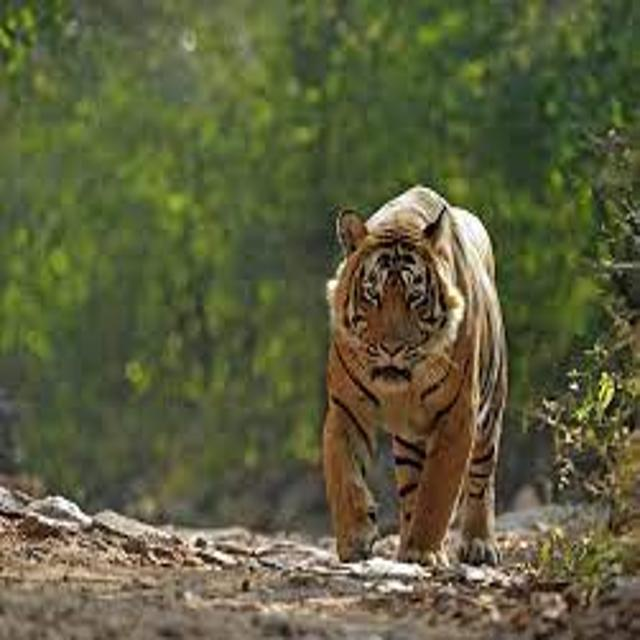tiger: (274, 144, 568, 607)
